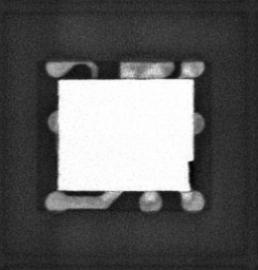DIE_BROKEN: (186, 158, 195, 191)
